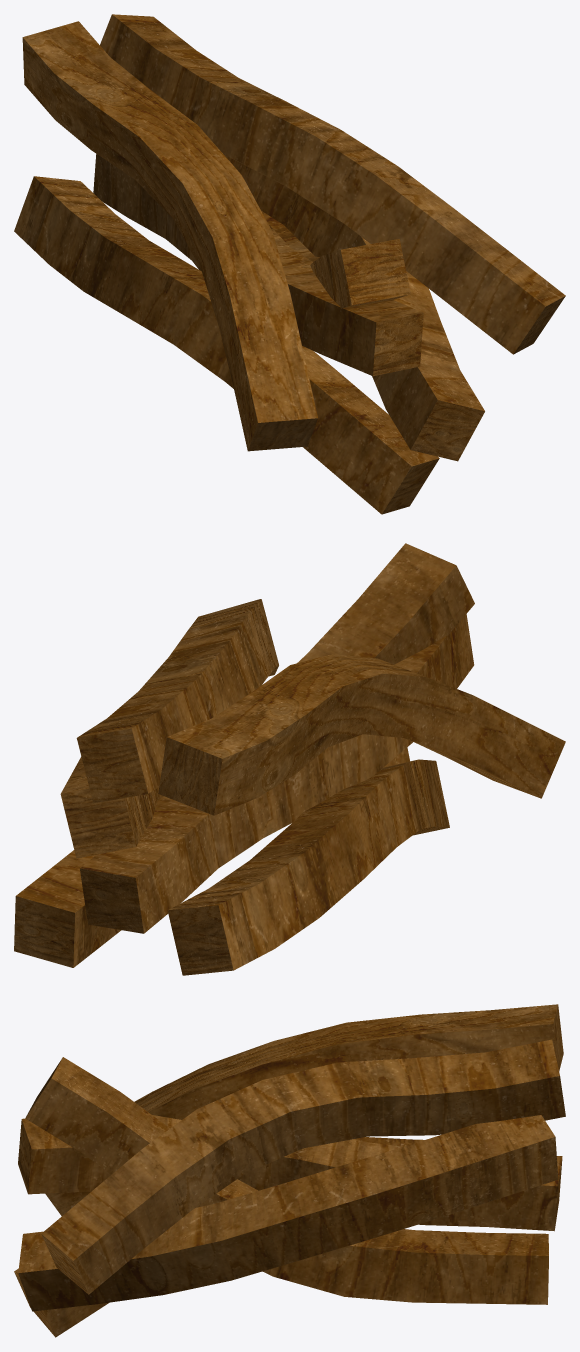
The model's file is Sticks_Platform_Textured.fbx.
3 views of the same model, one above another, from view 1: azimuth 30°, elevation 25°; view 2: azimuth 150°, elevation 25°; view 3: azimuth 270°, elevation 25° (orthographic). The views are drawn at different scales.
Visible parts, largest first — view 1: pCube6, pCube4, pCube5, pCube3, pCube1, pCube2; view 2: pCube6, pCube5, pCube1, pCube2, pCube4, pCube3; view 3: pCube4, pCube3, pCube2, pCube6, pCube1, pCube5.
Part boxes in pixels (x1,y1,x2,y2): pCube6: (22,21,317,451); pCube4: (100,14,565,354); pCube5: (14,176,439,514); pCube3: (224,155,484,461); pCube1: (93,154,423,376); pCube2: (261,211,410,308); pCube6: (158,654,565,815); pCube5: (167,759,449,975); pCube1: (80,614,474,933); pCube2: (14,543,474,967); pCube4: (76,599,278,803); pCube3: (60,747,409,858); pCube4: (41,1039,565,1294); pCube3: (18,1115,558,1311); pCube2: (25,1057,548,1304); pCube6: (45,1004,563,1215); pCube1: (18,1115,562,1231); pCube5: (14,1137,424,1337).
Bounding box in the file's own units: 5.09 × 4.61 × 8.11.
